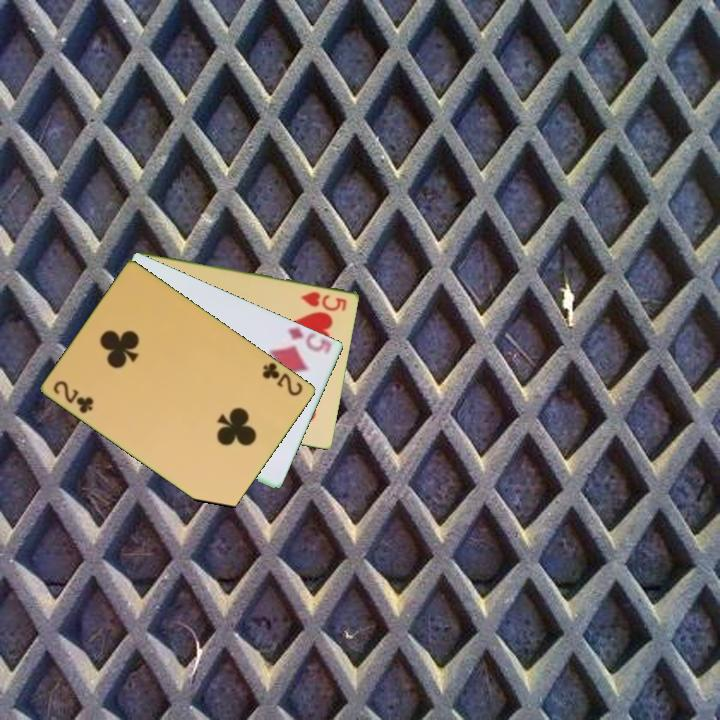2c: (259, 359, 306, 399), (50, 377, 97, 416)
5d: (284, 324, 332, 355)
5h: (298, 288, 350, 314)
